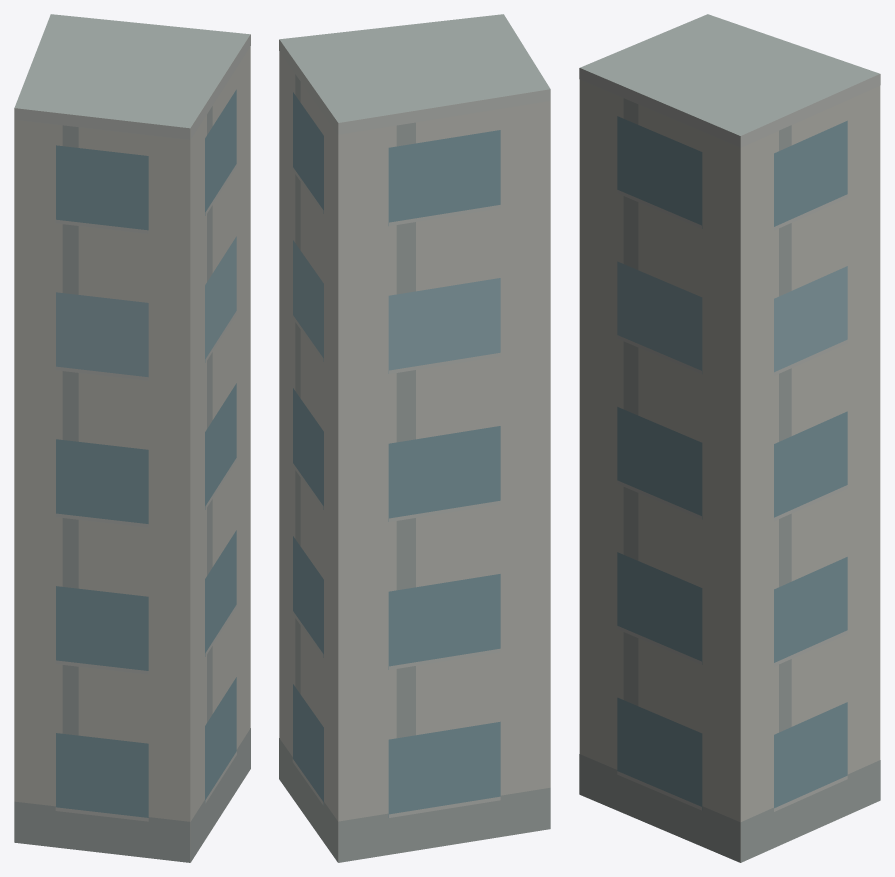
Rendered from survey-upis-32782697.glb.
The picture shows the model from 3 angles, left to right: view 1: azimuth 30°, elevation 25°; view 2: azimuth 150°, elevation 25°; view 3: azimuth 270°, elevation 25°; orthographic projection.
Parts seen in each view (by area): view 1: survey-upis-32782697.tmp; view 2: survey-upis-32782697.tmp; view 3: survey-upis-32782697.tmp.
Boxes of the visible parts, x1,y1,x2,y2 form: survey-upis-32782697.tmp: [14, 14, 250, 862]; survey-upis-32782697.tmp: [279, 14, 550, 862]; survey-upis-32782697.tmp: [579, 14, 880, 862].
Bounding box in the file's own units: 5.5 × 15.25 × 5.73.
